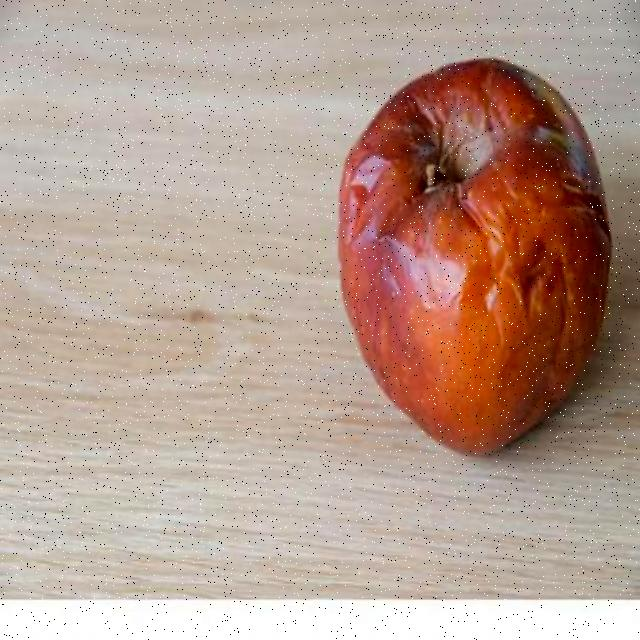ROT: (318, 36, 616, 480)
